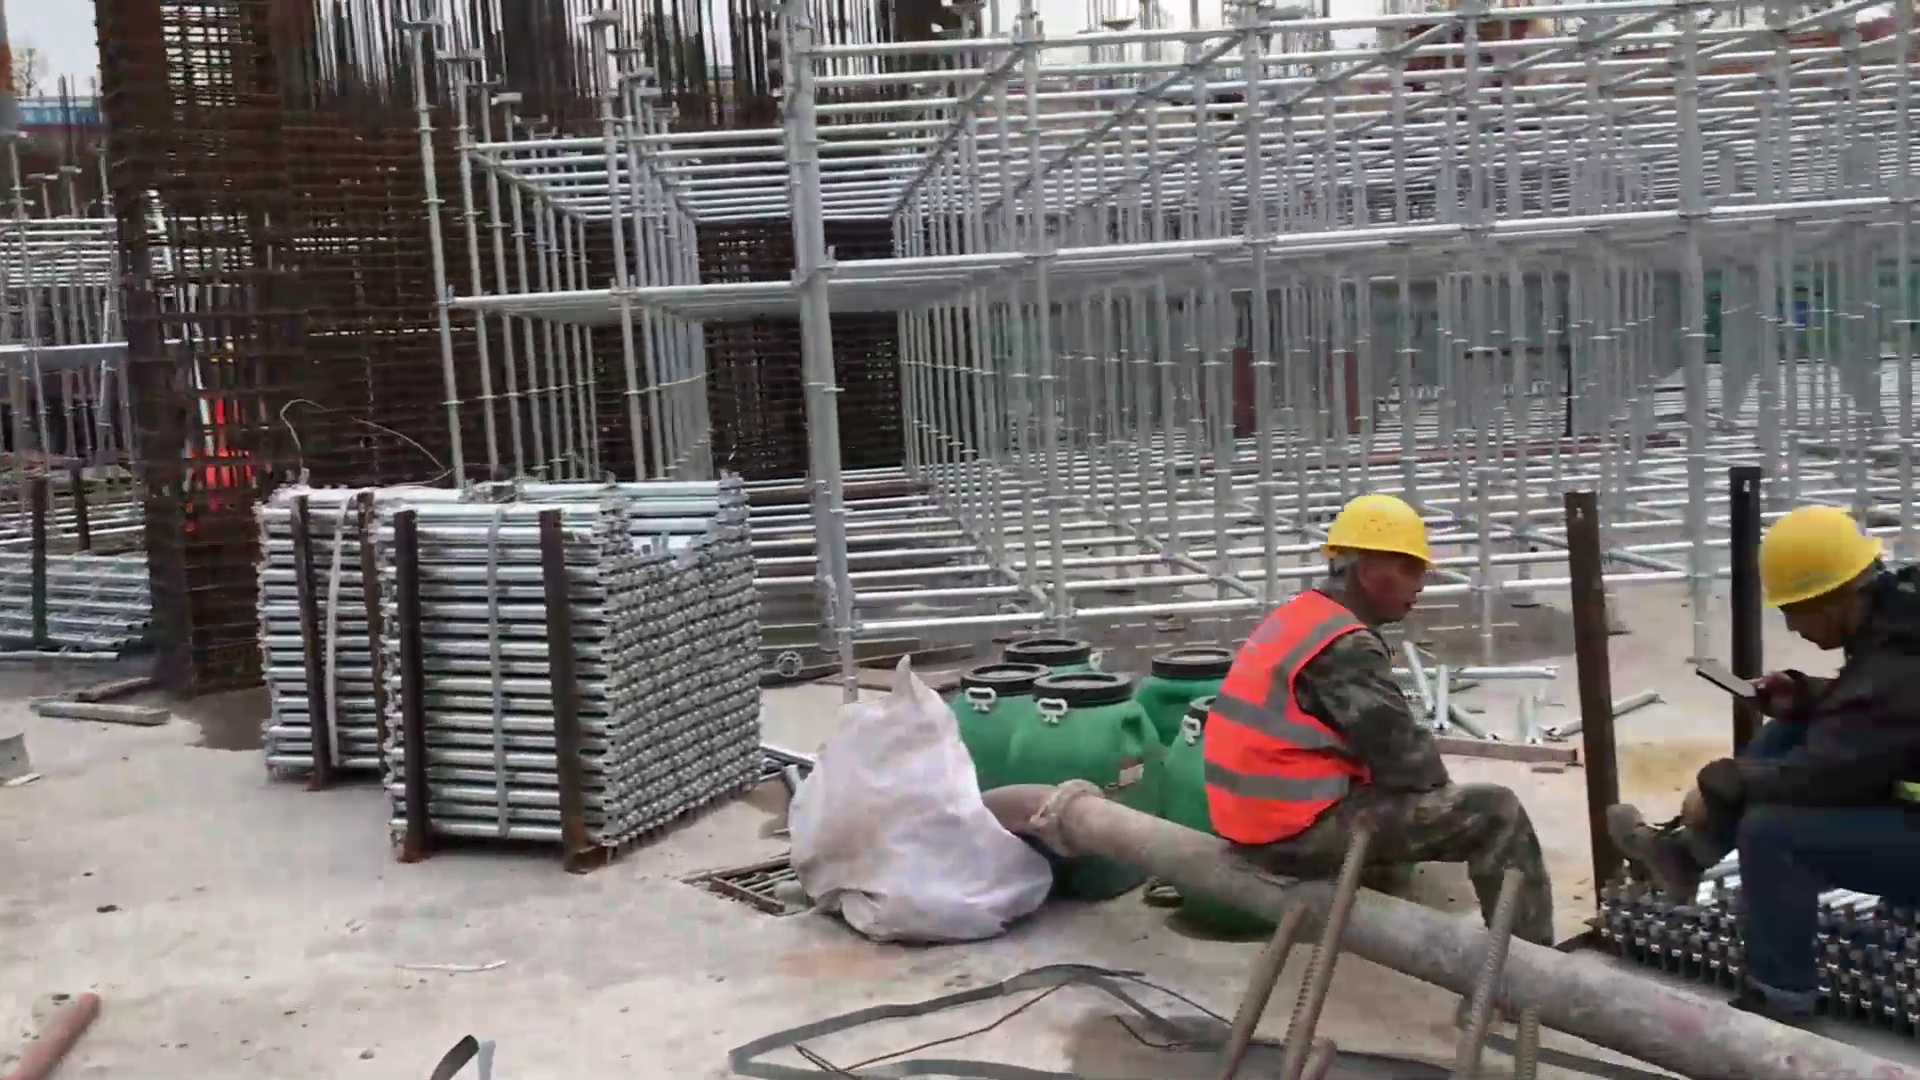helmet: (1747, 499, 1884, 611), (1307, 488, 1453, 576)
person: (1198, 486, 1563, 970), (1603, 500, 1920, 1029)
scaffold: (229, 469, 772, 846)
vest: (1202, 578, 1384, 841)
